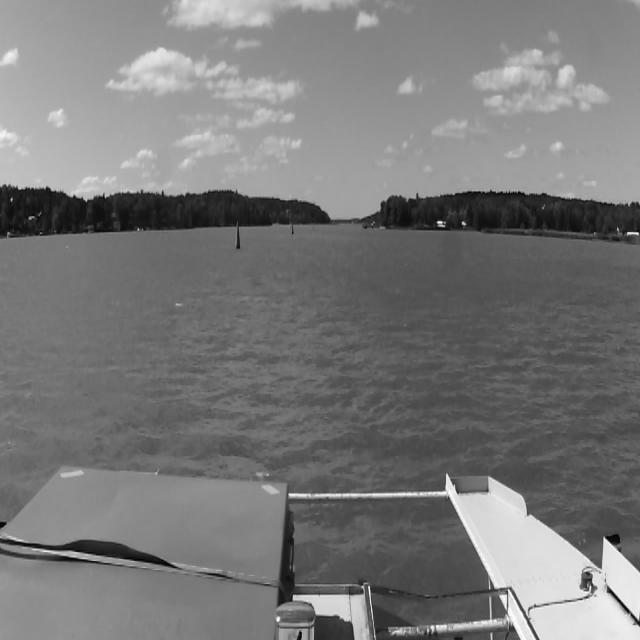buoy: (236, 216, 240, 248), (290, 225, 293, 235)
